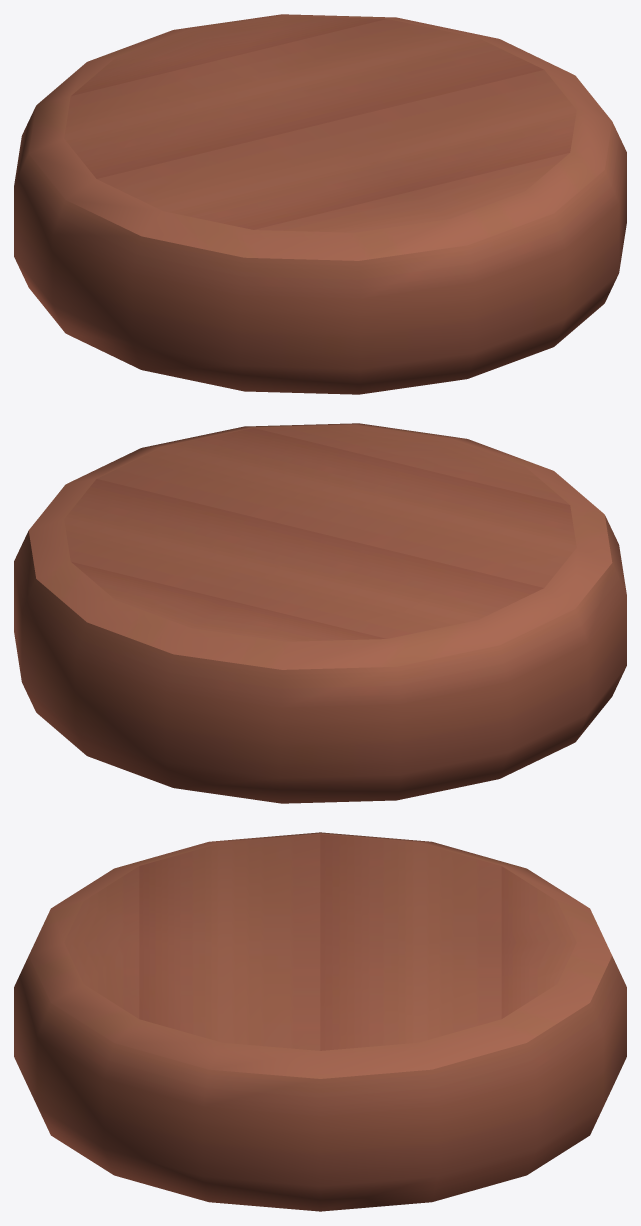
Rendered from food-ingredient-burger-cooked.glb.
3 views of the same model, one above another, from view 1: azimuth 30°, elevation 25°; view 2: azimuth 150°, elevation 25°; view 3: azimuth 270°, elevation 25° (orthographic).
Visible parts, largest first — view 1: food_ingredient_burger_cooked; view 2: food_ingredient_burger_cooked; view 3: food_ingredient_burger_cooked.
Part boxes in pixels (x1=…): food_ingredient_burger_cooked: x1=14, y1=14, x2=626, y2=394; food_ingredient_burger_cooked: x1=14, y1=423, x2=626, y2=803; food_ingredient_burger_cooked: x1=14, y1=832, x2=626, y2=1211.
Size of the model in its own units: 0.7 by 0.2 by 0.7.
Materials: 1 (1 with a texture image).
